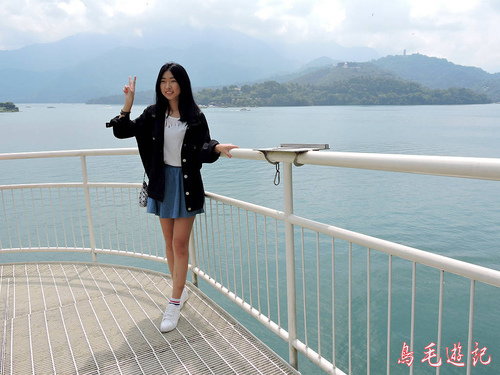people: (114, 64, 239, 333)
